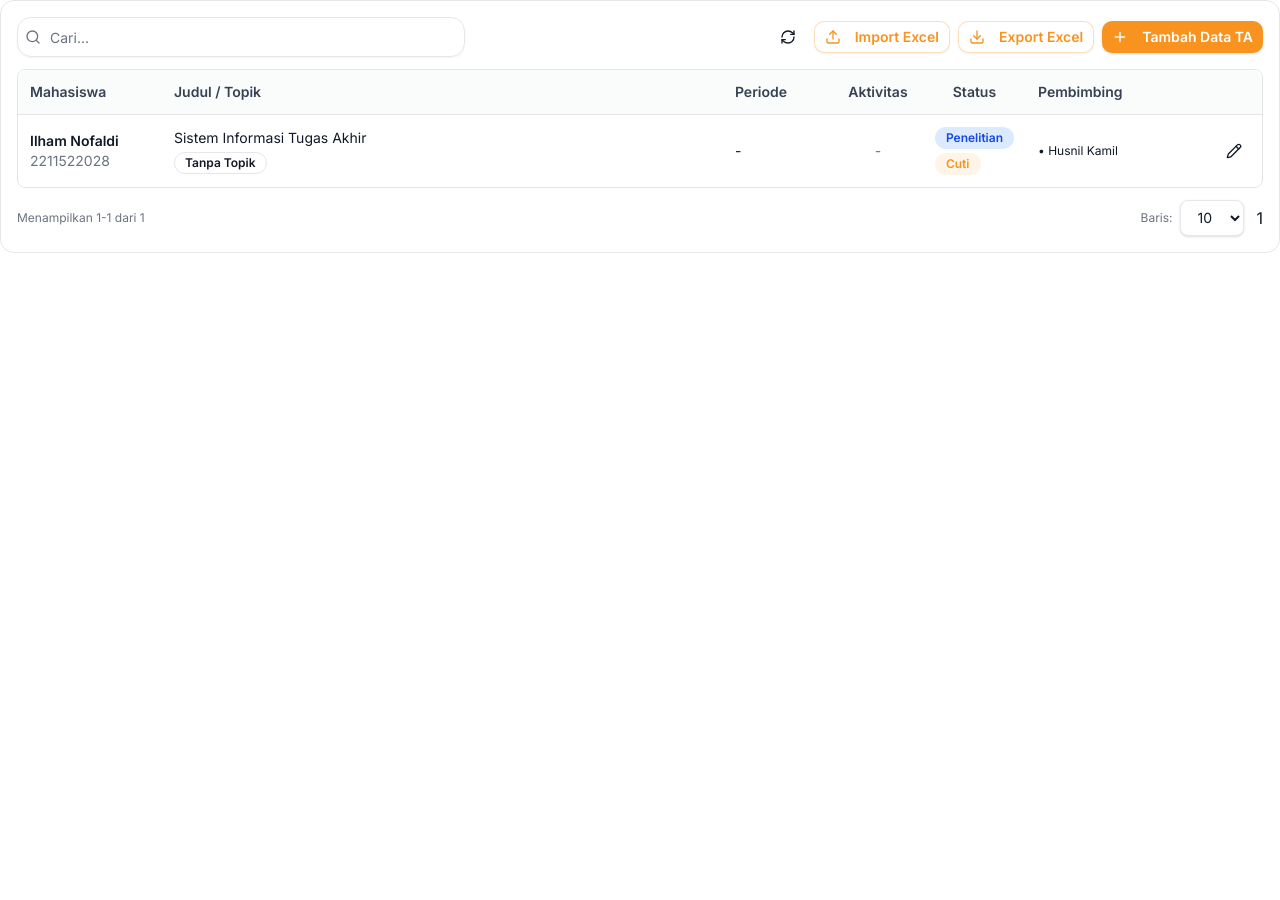
Test: DataMasterTaPanel form › offers no leave status: the leave follows the student status
This screenshot has width=1280, height=900.
Check: the text "Sistem Informasi Tugas Akhir" is shown, box x1=174 y1=128 x2=366 y2=146
Click the 5th button at (1234, 150), box x1=1218 y1=134 x2=1250 y2=166
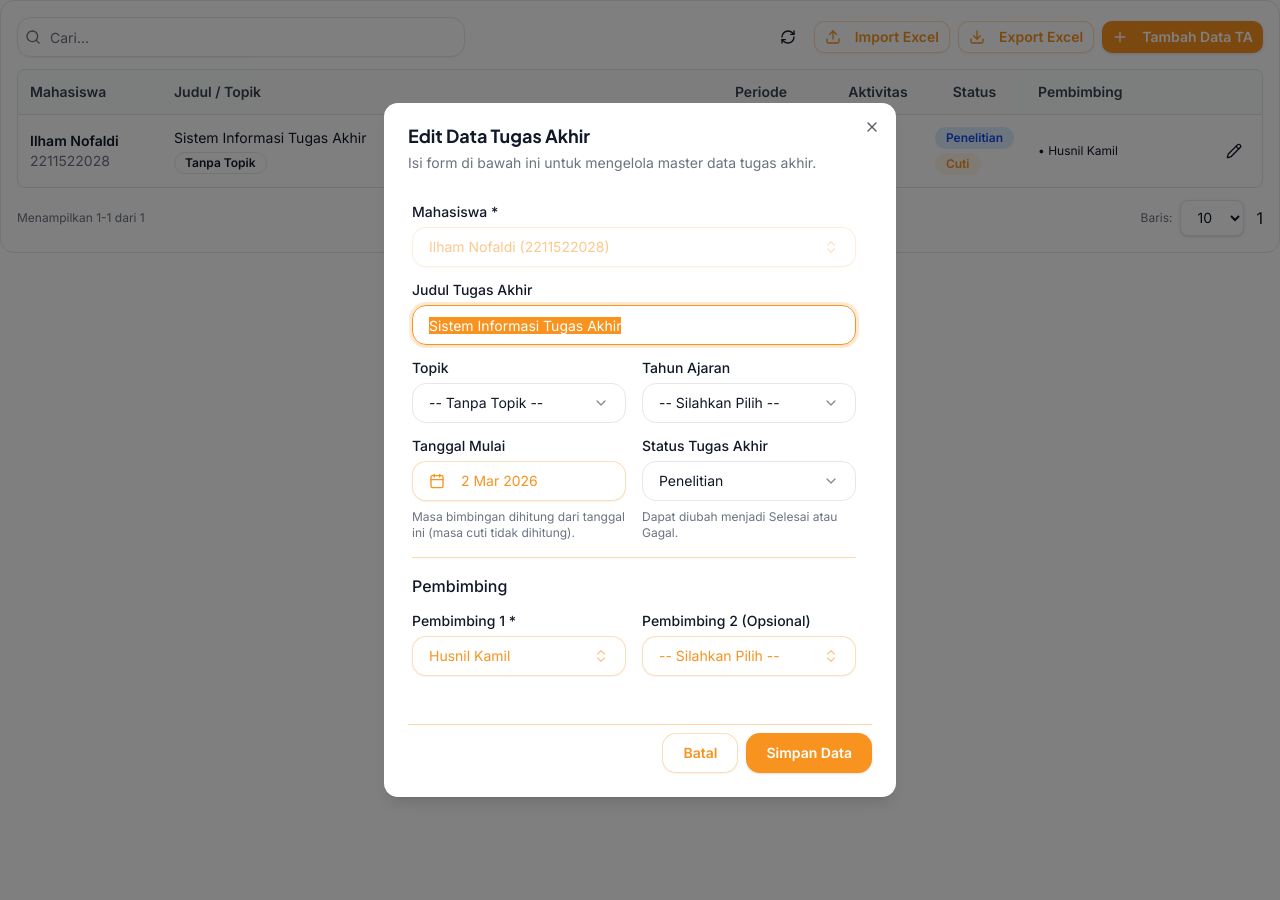
Check: the text "Dapat diubah menjadi Selesai atau Gagal." is shown, box x1=642 y1=509 x2=856 y2=541
